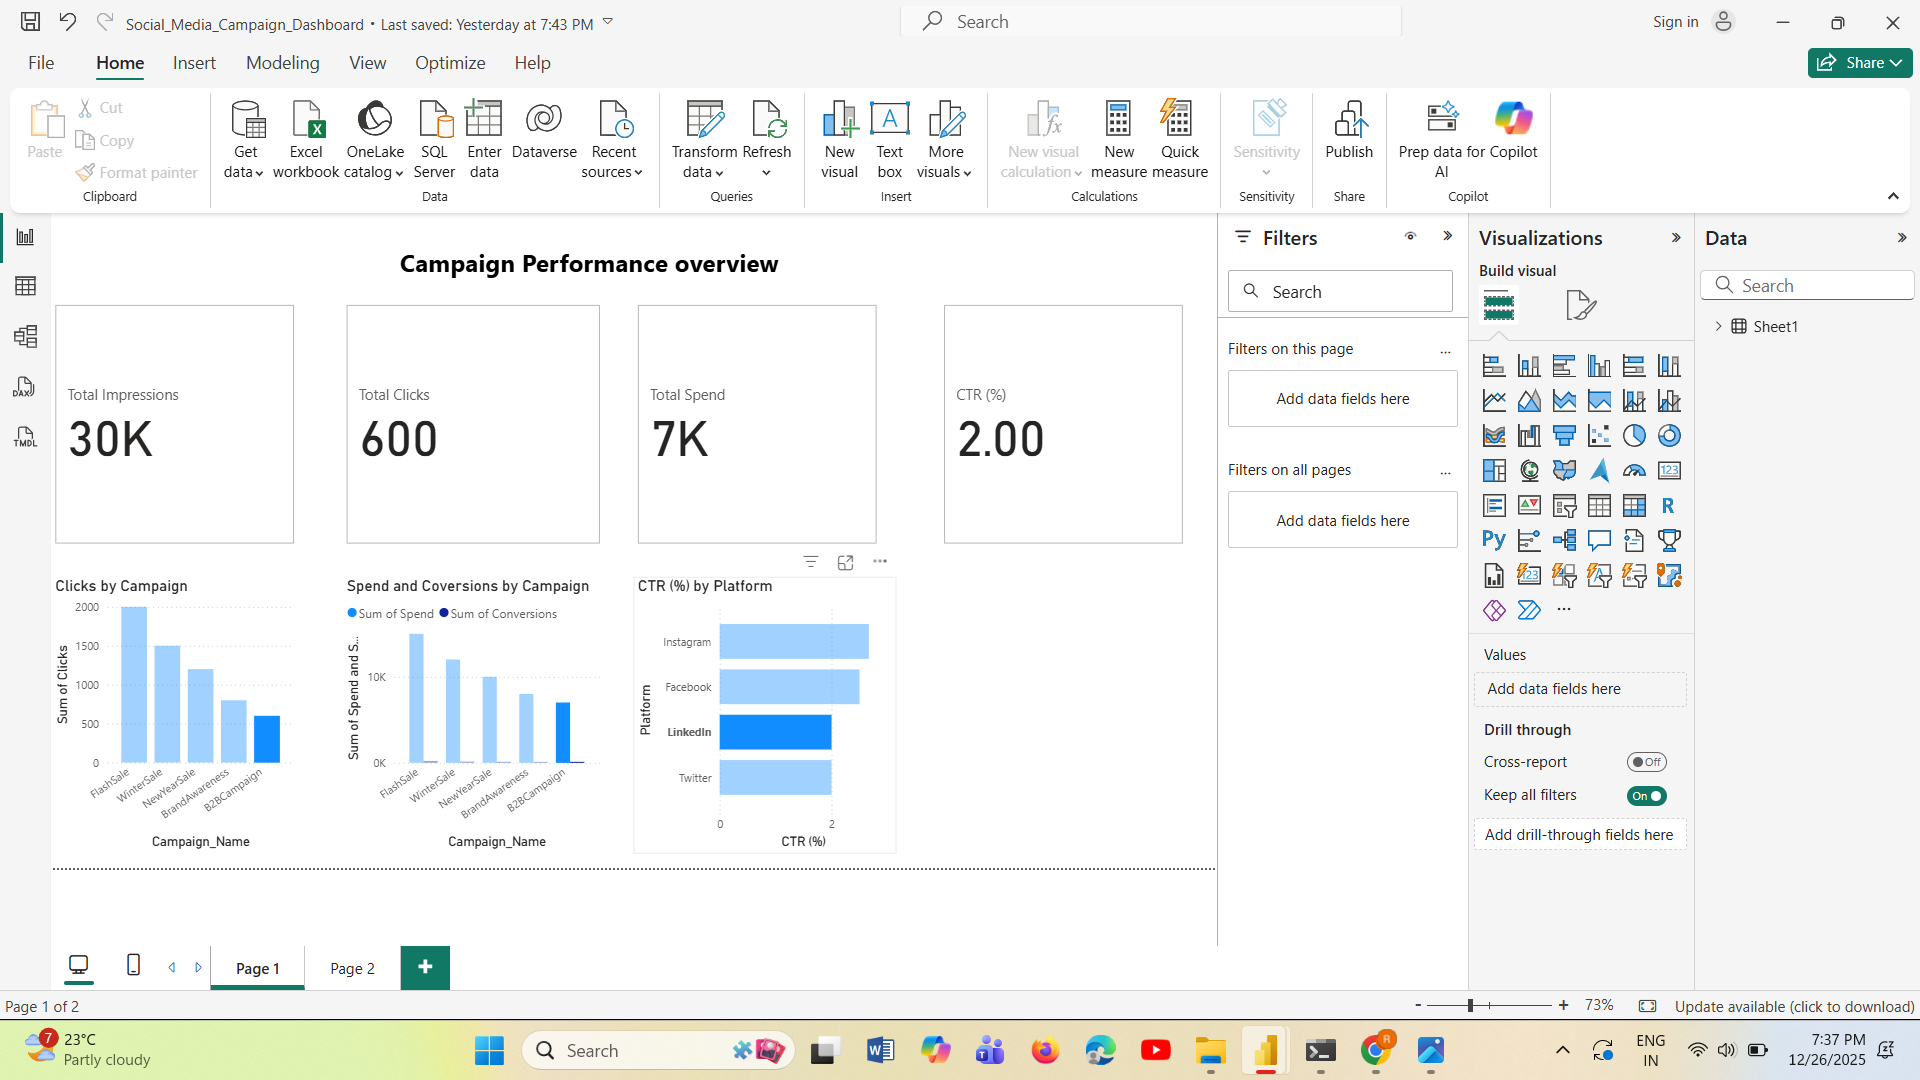

The page's visual inventory and layout, read from the dashboard file:
{"tool":"powerbi","page":{"name":"Page 1","canvas":[1280,720],"ordinal":0},"visuals":[{"type":"cardVisual","fields":{"Data":["Sheet1.Total Impressions"]},"box":[0,96,272,272],"z":0},{"type":"cardVisual","fields":{"Data":["Sheet1.Total Clicks"]},"box":[320,96,288,272],"z":1000},{"type":"cardVisual","fields":{"Data":["Sheet1.Total Spend"]},"box":[640,96,272,272],"z":2000},{"type":"cardVisual","fields":{"Data":["Sheet1.CTR (%)"]},"box":[976,96,272,272],"z":3000},{"type":"clusteredColumnChart","title":"Clicks by Campaign","fields":{"Category":["Sheet1.Campaign_Name"],"Y":["Sum(Sheet1.Clicks)"]},"box":[0,400,272,304],"z":4000},{"type":"lineClusteredColumnComboChart","title":"Spend and Coversions by Campaign","fields":{"Category":["Sheet1.Campaign_Name"],"Y":["Sum(Sheet1.Spend)","Sum(Sheet1.Conversions)"]},"box":[320,400,288,304],"z":5000},{"type":"clusteredBarChart","fields":{"Category":["Sheet1.Platform"],"Y":["Sheet1.CTR (%)"]},"box":[640,400,288,304],"z":6000},{"type":"textbox","box":[304,32,608,64],"z":6001}]}

Visuals, with their boxes on the page's 1280x720 design canvas (x1, y1, x2, y2). These are canvas units, not pixel positions in the 1920x1080 screenshot, which may show the page scaled, cropped or inside an application window:
cardVisual - Sheet1.Total Impressions: [0, 96, 272, 368]
cardVisual - Sheet1.Total Clicks: [320, 96, 608, 368]
cardVisual - Sheet1.Total Spend: [640, 96, 912, 368]
cardVisual - Sheet1.CTR (%): [976, 96, 1248, 368]
"Clicks by Campaign" clusteredColumnChart: [0, 400, 272, 704]
"Spend and Coversions by Campaign" lineClusteredColumnComboChart: [320, 400, 608, 704]
clusteredBarChart - Sheet1.Platform x Sheet1.CTR (%): [640, 400, 928, 704]
textbox: [304, 32, 912, 96]
